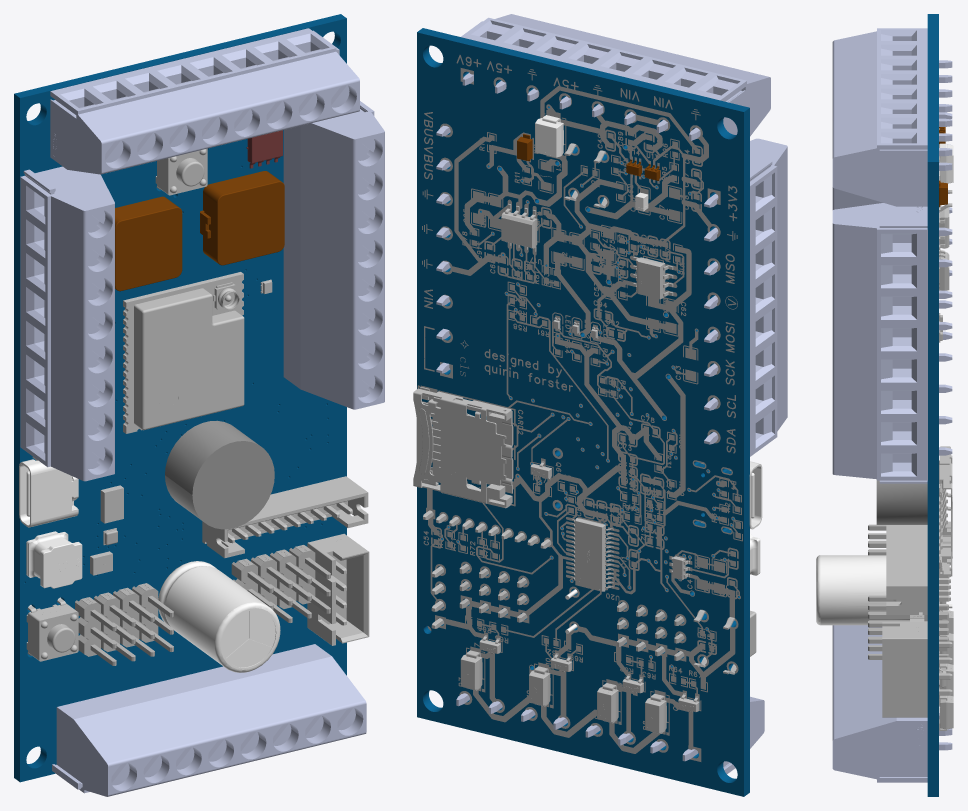
File: proton3-computer-highdetail-compressed.glb
3 views of the same model, side by side, from view 1: azimuth 30°, elevation 25°; view 2: azimuth 150°, elevation 25°; view 3: azimuth 270°, elevation 25° (orthographic). The views are drawn at different scales.
Visible parts, largest first — view 1: empty_2, empty_1646, empty_1479, empty_1644, empty_1645, empty_1535, empty_1379, empty_1391, empty_1385, empty_1393, empty_1607, empty_1435 (+14 smaller); view 2: empty_2, empty_1644, empty_1645, empty_1503, empty_279, empty_324, empty_265, empty_291, empty_1561, empty_297, empty_1646, empty_321 (+18 smaller); view 3: empty_1479, empty_1645, empty_1646, empty_2, empty_1435, empty_1391, empty_1393, empty_1379, empty_1644, empty_1503, empty_1642, empty_1641 (+7 smaller).
Boxes of the visible parts, left/top/right/bottom form: empty_2: left=14, top=14, right=346, bottom=782; empty_1646: left=52, top=644, right=366, bottom=796; empty_1479: left=283, top=101, right=384, bottom=409; empty_1644: left=20, top=166, right=114, bottom=481; empty_1645: left=50, top=28, right=359, bottom=174; empty_1535: left=123, top=272, right=244, bottom=433; empty_1379: left=165, top=420, right=274, bottom=529; empty_1391: left=158, top=561, right=280, bottom=672; empty_1385: left=200, top=171, right=284, bottom=265; empty_1393: left=202, top=476, right=368, bottom=558; empty_1607: left=115, top=196, right=182, bottom=291; empty_1435: left=307, top=533, right=369, bottom=645; empty_2: left=417, top=28, right=749, bottom=796; empty_1644: left=704, top=138, right=787, bottom=456; empty_1645: left=461, top=14, right=770, bottom=140; empty_1503: left=413, top=388, right=511, bottom=508; empty_279: left=543, top=101, right=720, bottom=338; empty_324: left=426, top=333, right=661, bottom=640; empty_265: left=555, top=573, right=738, bottom=698; empty_291: left=464, top=86, right=700, bottom=235; empty_1561: left=575, top=518, right=605, bottom=591; empty_297: left=593, top=245, right=691, bottom=420; empty_1646: left=456, top=693, right=764, bottom=773; empty_321: left=473, top=664, right=665, bottom=753; empty_1479: left=832, top=203, right=952, bottom=483; empty_1645: left=832, top=28, right=952, bottom=206; empty_1646: left=832, top=625, right=952, bottom=782; empty_2: left=927, top=14, right=938, bottom=796; empty_1435: left=882, top=622, right=952, bottom=717; empty_1391: left=816, top=555, right=952, bottom=625; empty_1393: left=886, top=525, right=950, bottom=614; empty_1379: left=876, top=479, right=927, bottom=524; empty_1644: left=832, top=112, right=952, bottom=339; empty_1503: left=939, top=446, right=952, bottom=575; empty_1642: left=868, top=614, right=948, bottom=659; empty_1641: left=868, top=612, right=948, bottom=651.
Bounding box in the file's own units: 50.1 × 99.98 × 19.6.
